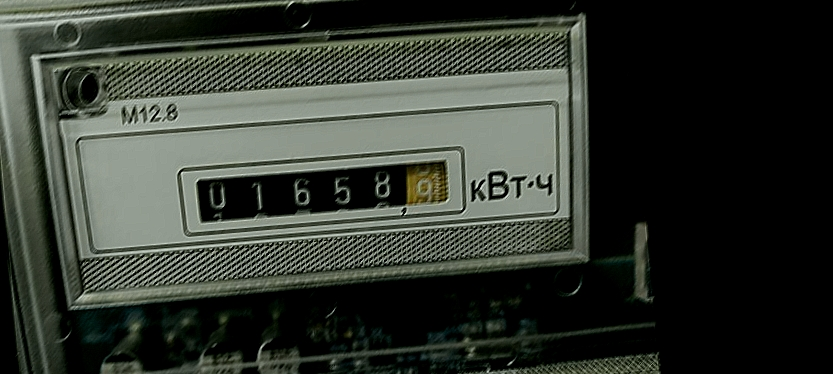0: (205, 178, 227, 210)
1: (248, 177, 268, 211)
5: (330, 172, 353, 205)
6: (290, 173, 312, 207)
8: (370, 165, 393, 199)
9: (411, 176, 435, 206)
screen: (167, 135, 473, 244)
